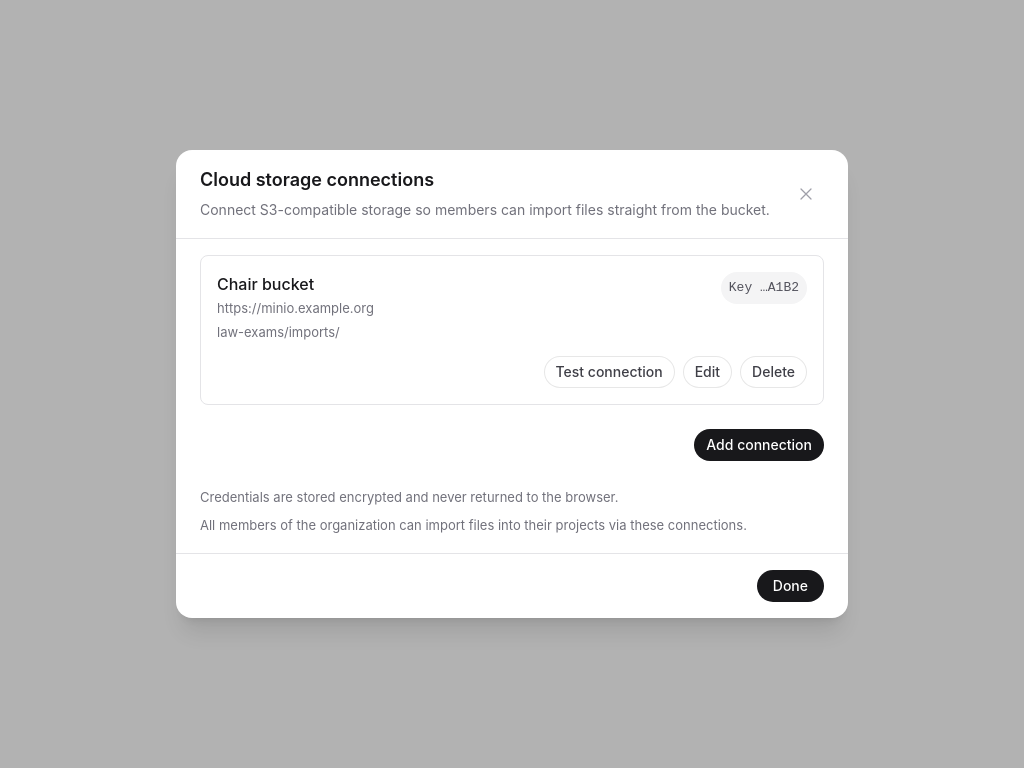
Test: OrgStorageConnections › Editing a connection › prefills metadata, leaves credentials empty and omits them on save
Step 1. Click the button "Edit" → [707, 372], box 683,356 -> 732,388
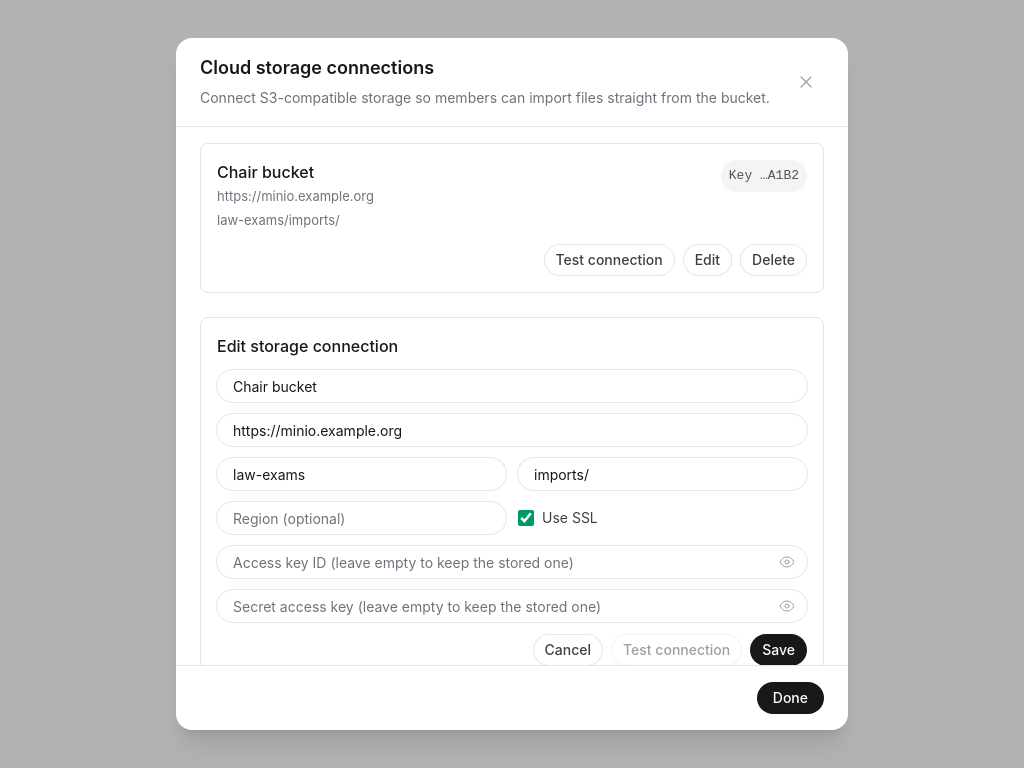
Expected: the heading "Edit storage connection" is shown, 217,336 -> 398,356
Expected: the field named "Name" holds "Chair bucket"
Expected: the field named "Bucket" holds "law-exams", 217,458 -> 506,490
Step 2. Replace the text in the field named "Name" with "Renamed" → [512, 386], box 217,370 -> 807,402
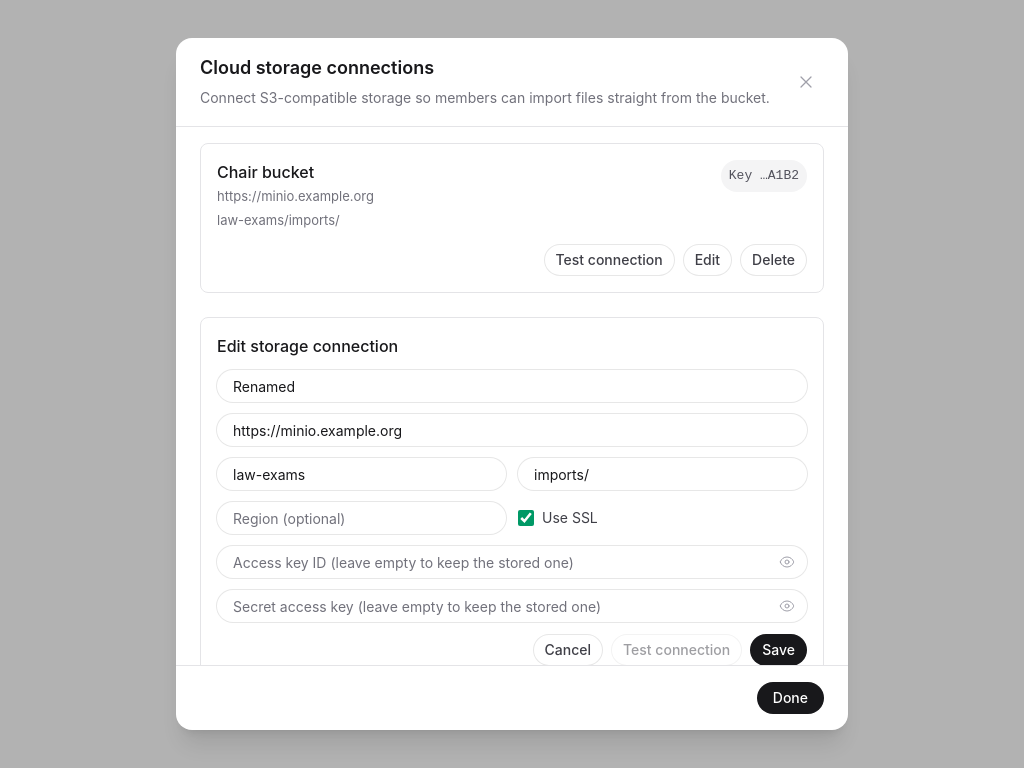
Step 3. Click the button "Save" → [779, 650], box 750,634 -> 807,666
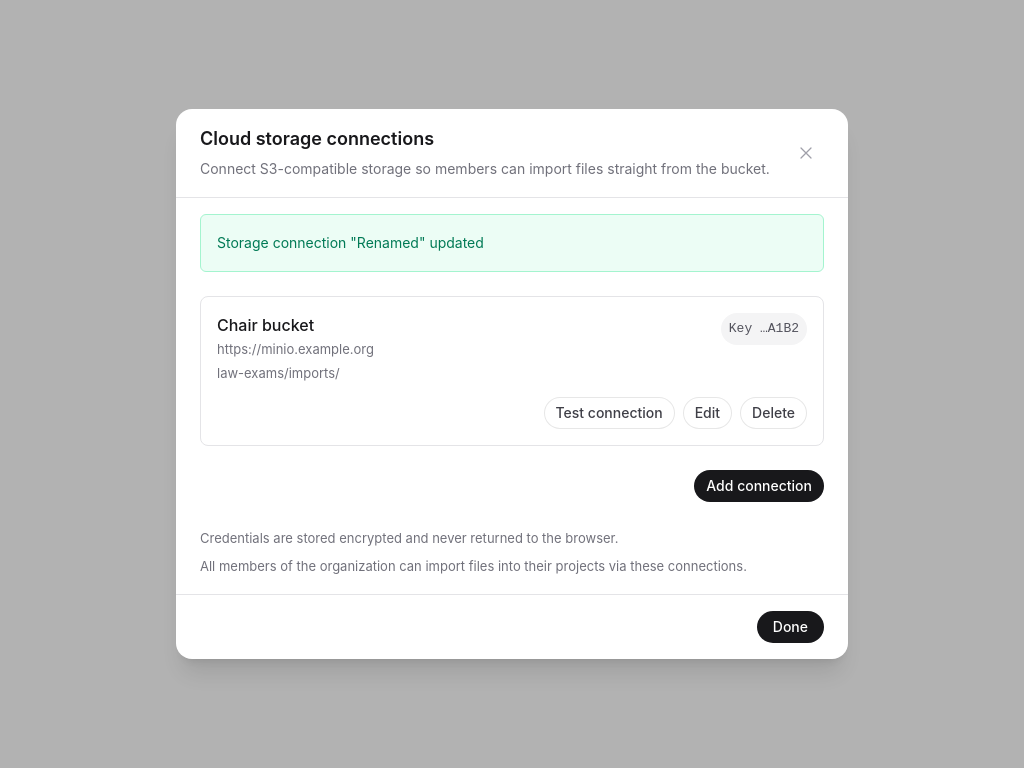
Expected: the text "Storage connection \"Renamed\" updated" is shown, 200,214 -> 824,272
